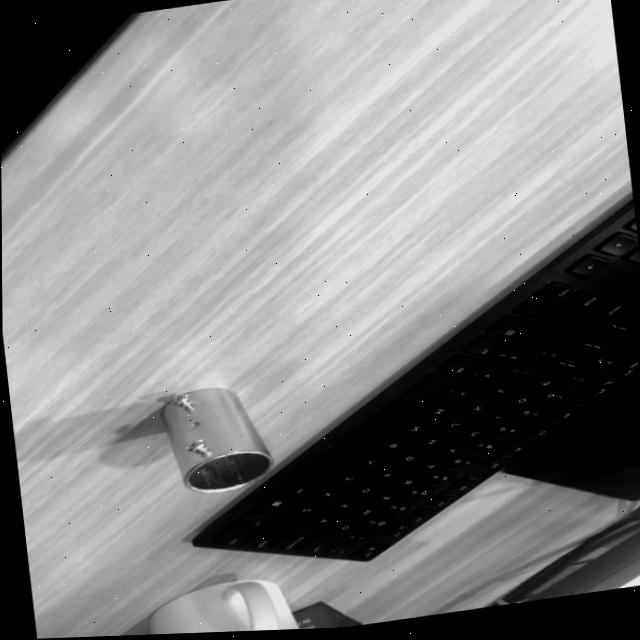Co_Lon: (153, 371, 278, 505)
